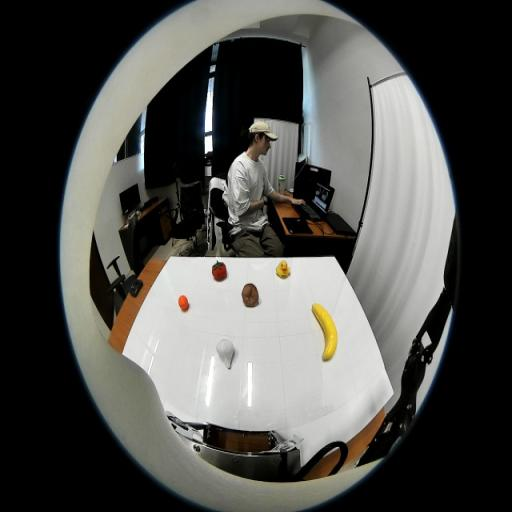Banana: (312, 303, 338, 359)
Duck: (276, 260, 290, 278)
Mushroom: (242, 284, 258, 307)
Onion: (216, 339, 234, 369)
Orange: (178, 296, 188, 308)
Tomato: (212, 262, 226, 280)
